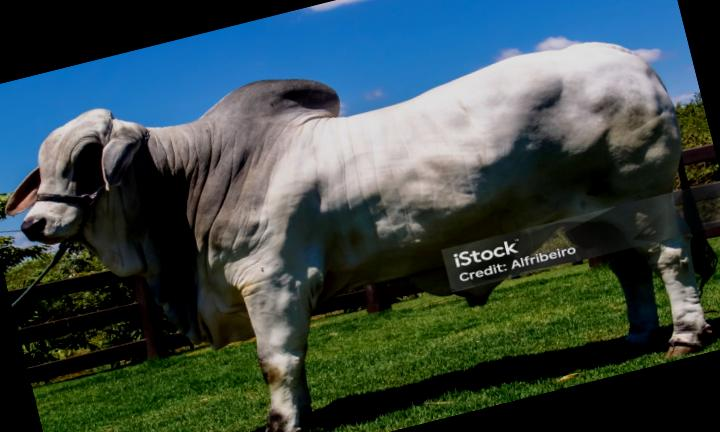Brahman: (6, 42, 714, 432)
